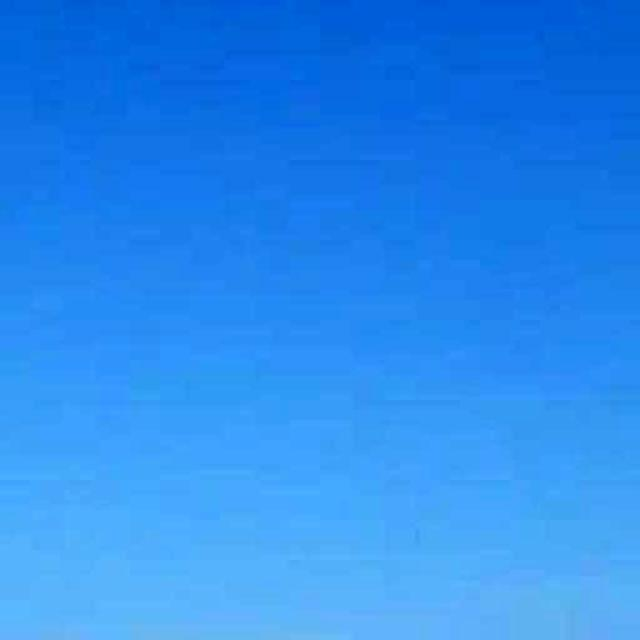drone: (382, 496, 452, 572)
